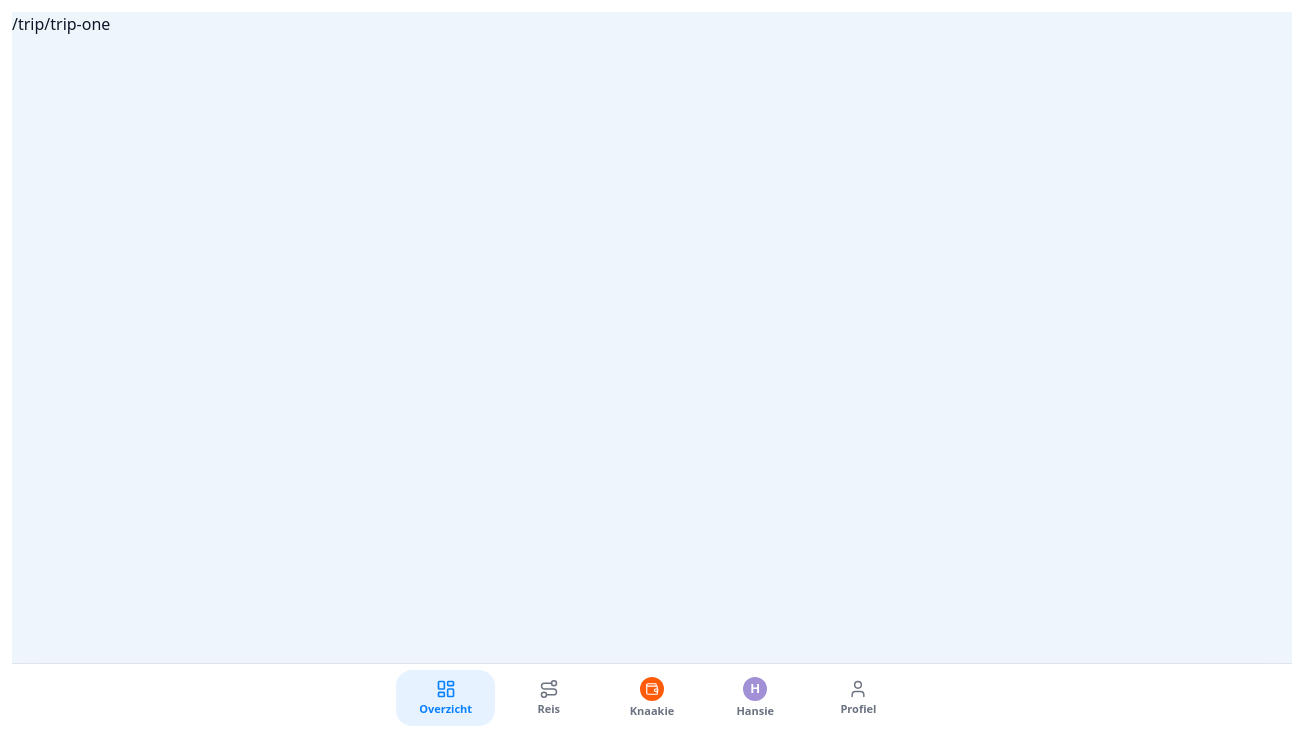
Knaakie footer shortcut › opens the current trip's existing costs from /trip/trip-one
Click the link "Knaakie".
click(652, 697)  # box 630,677 -> 674,718
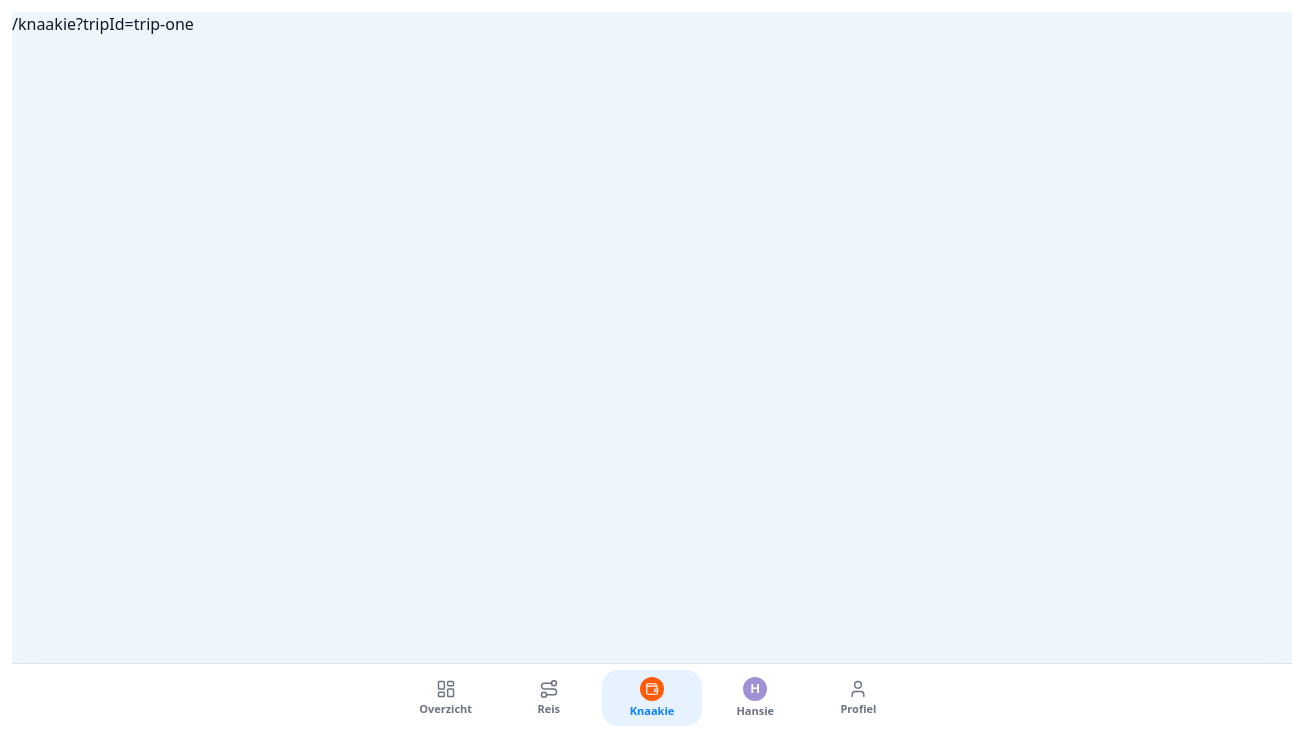
expect the text with test id "destination" reads "/knaakie?tripId=trip-one": met, box 12,13 -> 194,35
